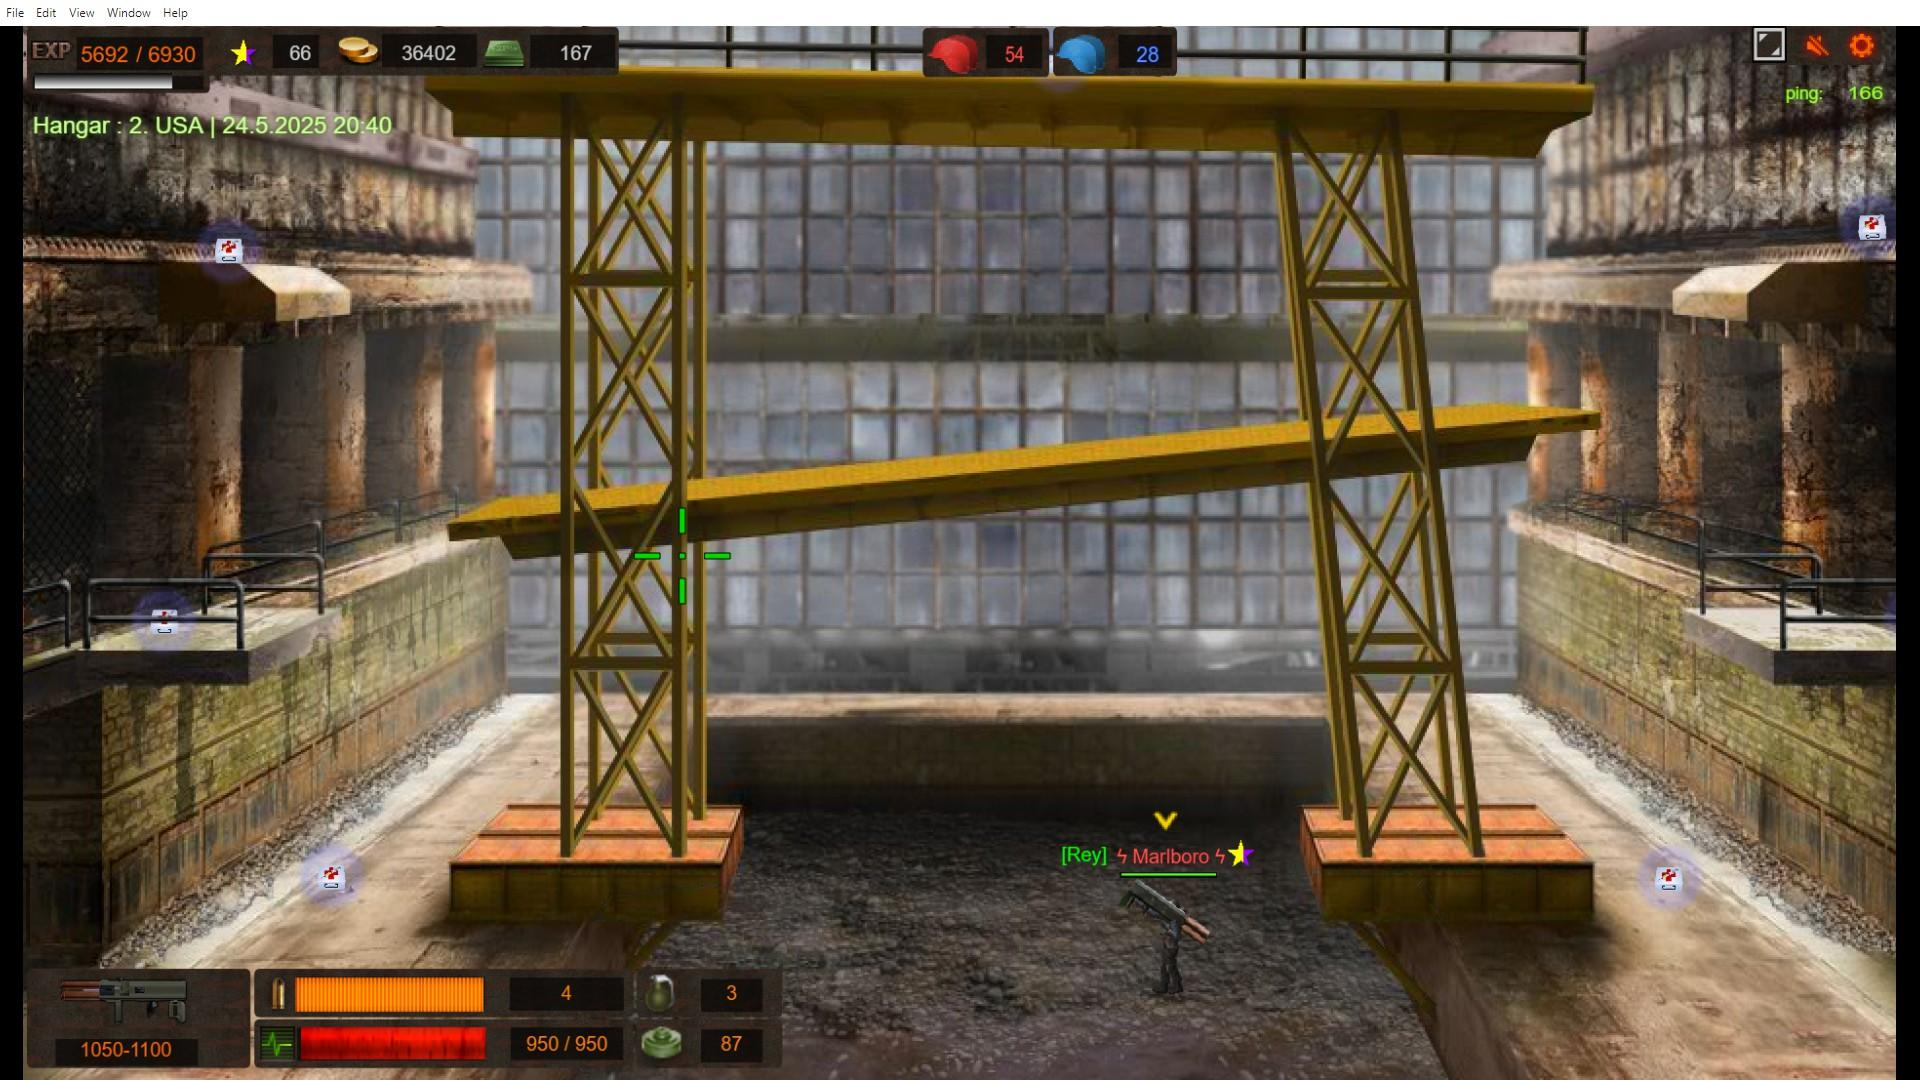enemy: (1159, 898, 1184, 996)
